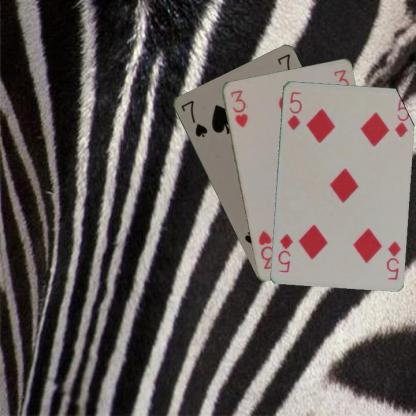3h: (227, 88, 249, 128)
5d: (284, 89, 303, 132), (384, 238, 402, 281)
7s: (178, 97, 209, 139)
